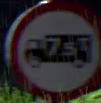Heavy Vehicles: (5, 1, 100, 102)
